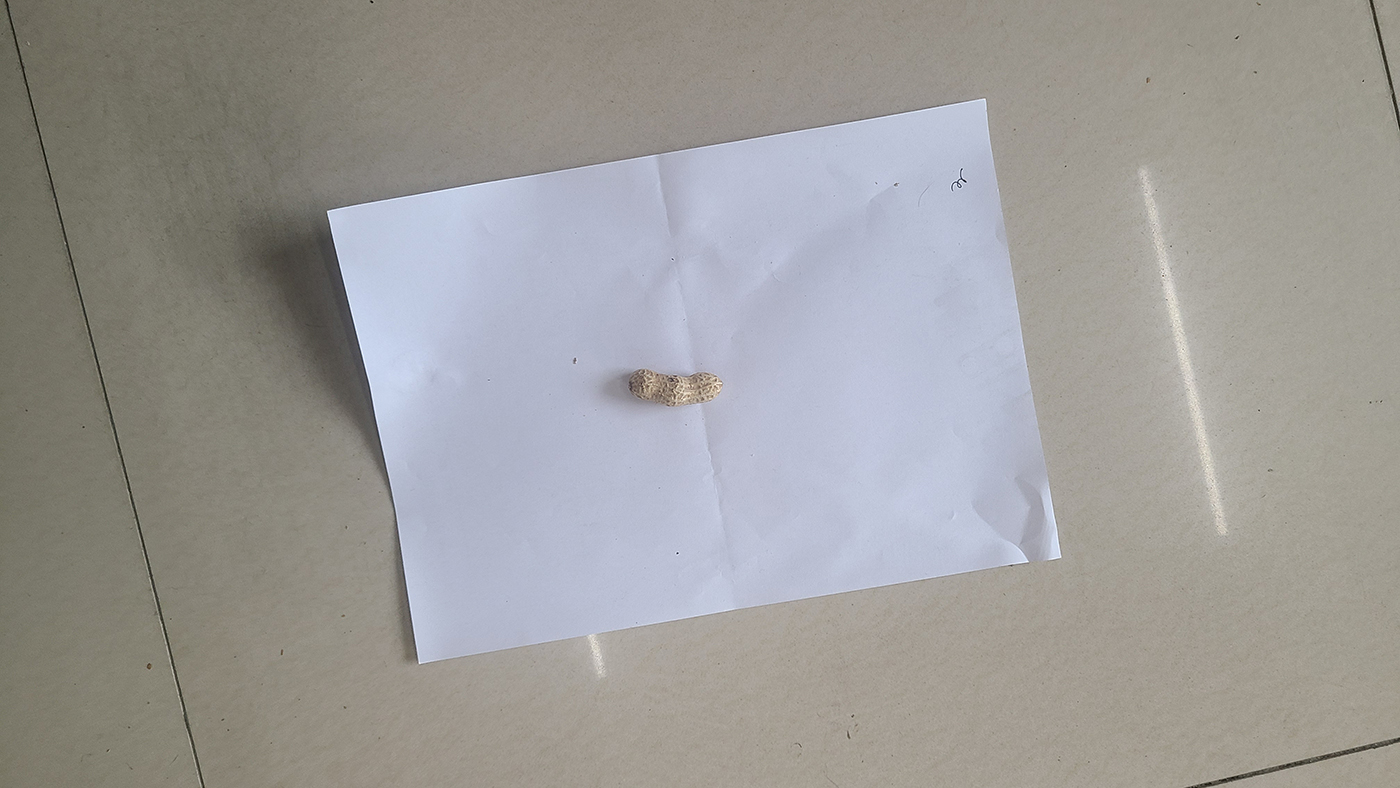h: (628, 367, 723, 407)
